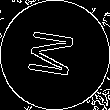M_E: (26, 28, 84, 82)
